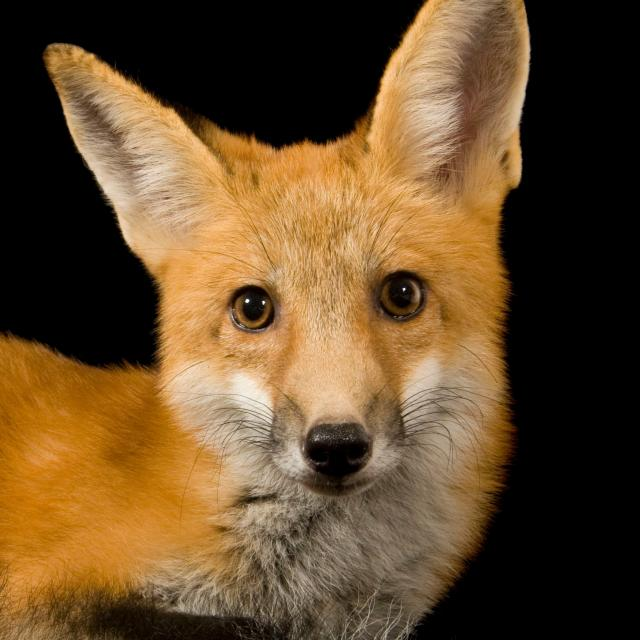Fox: (0, 0, 530, 640)
